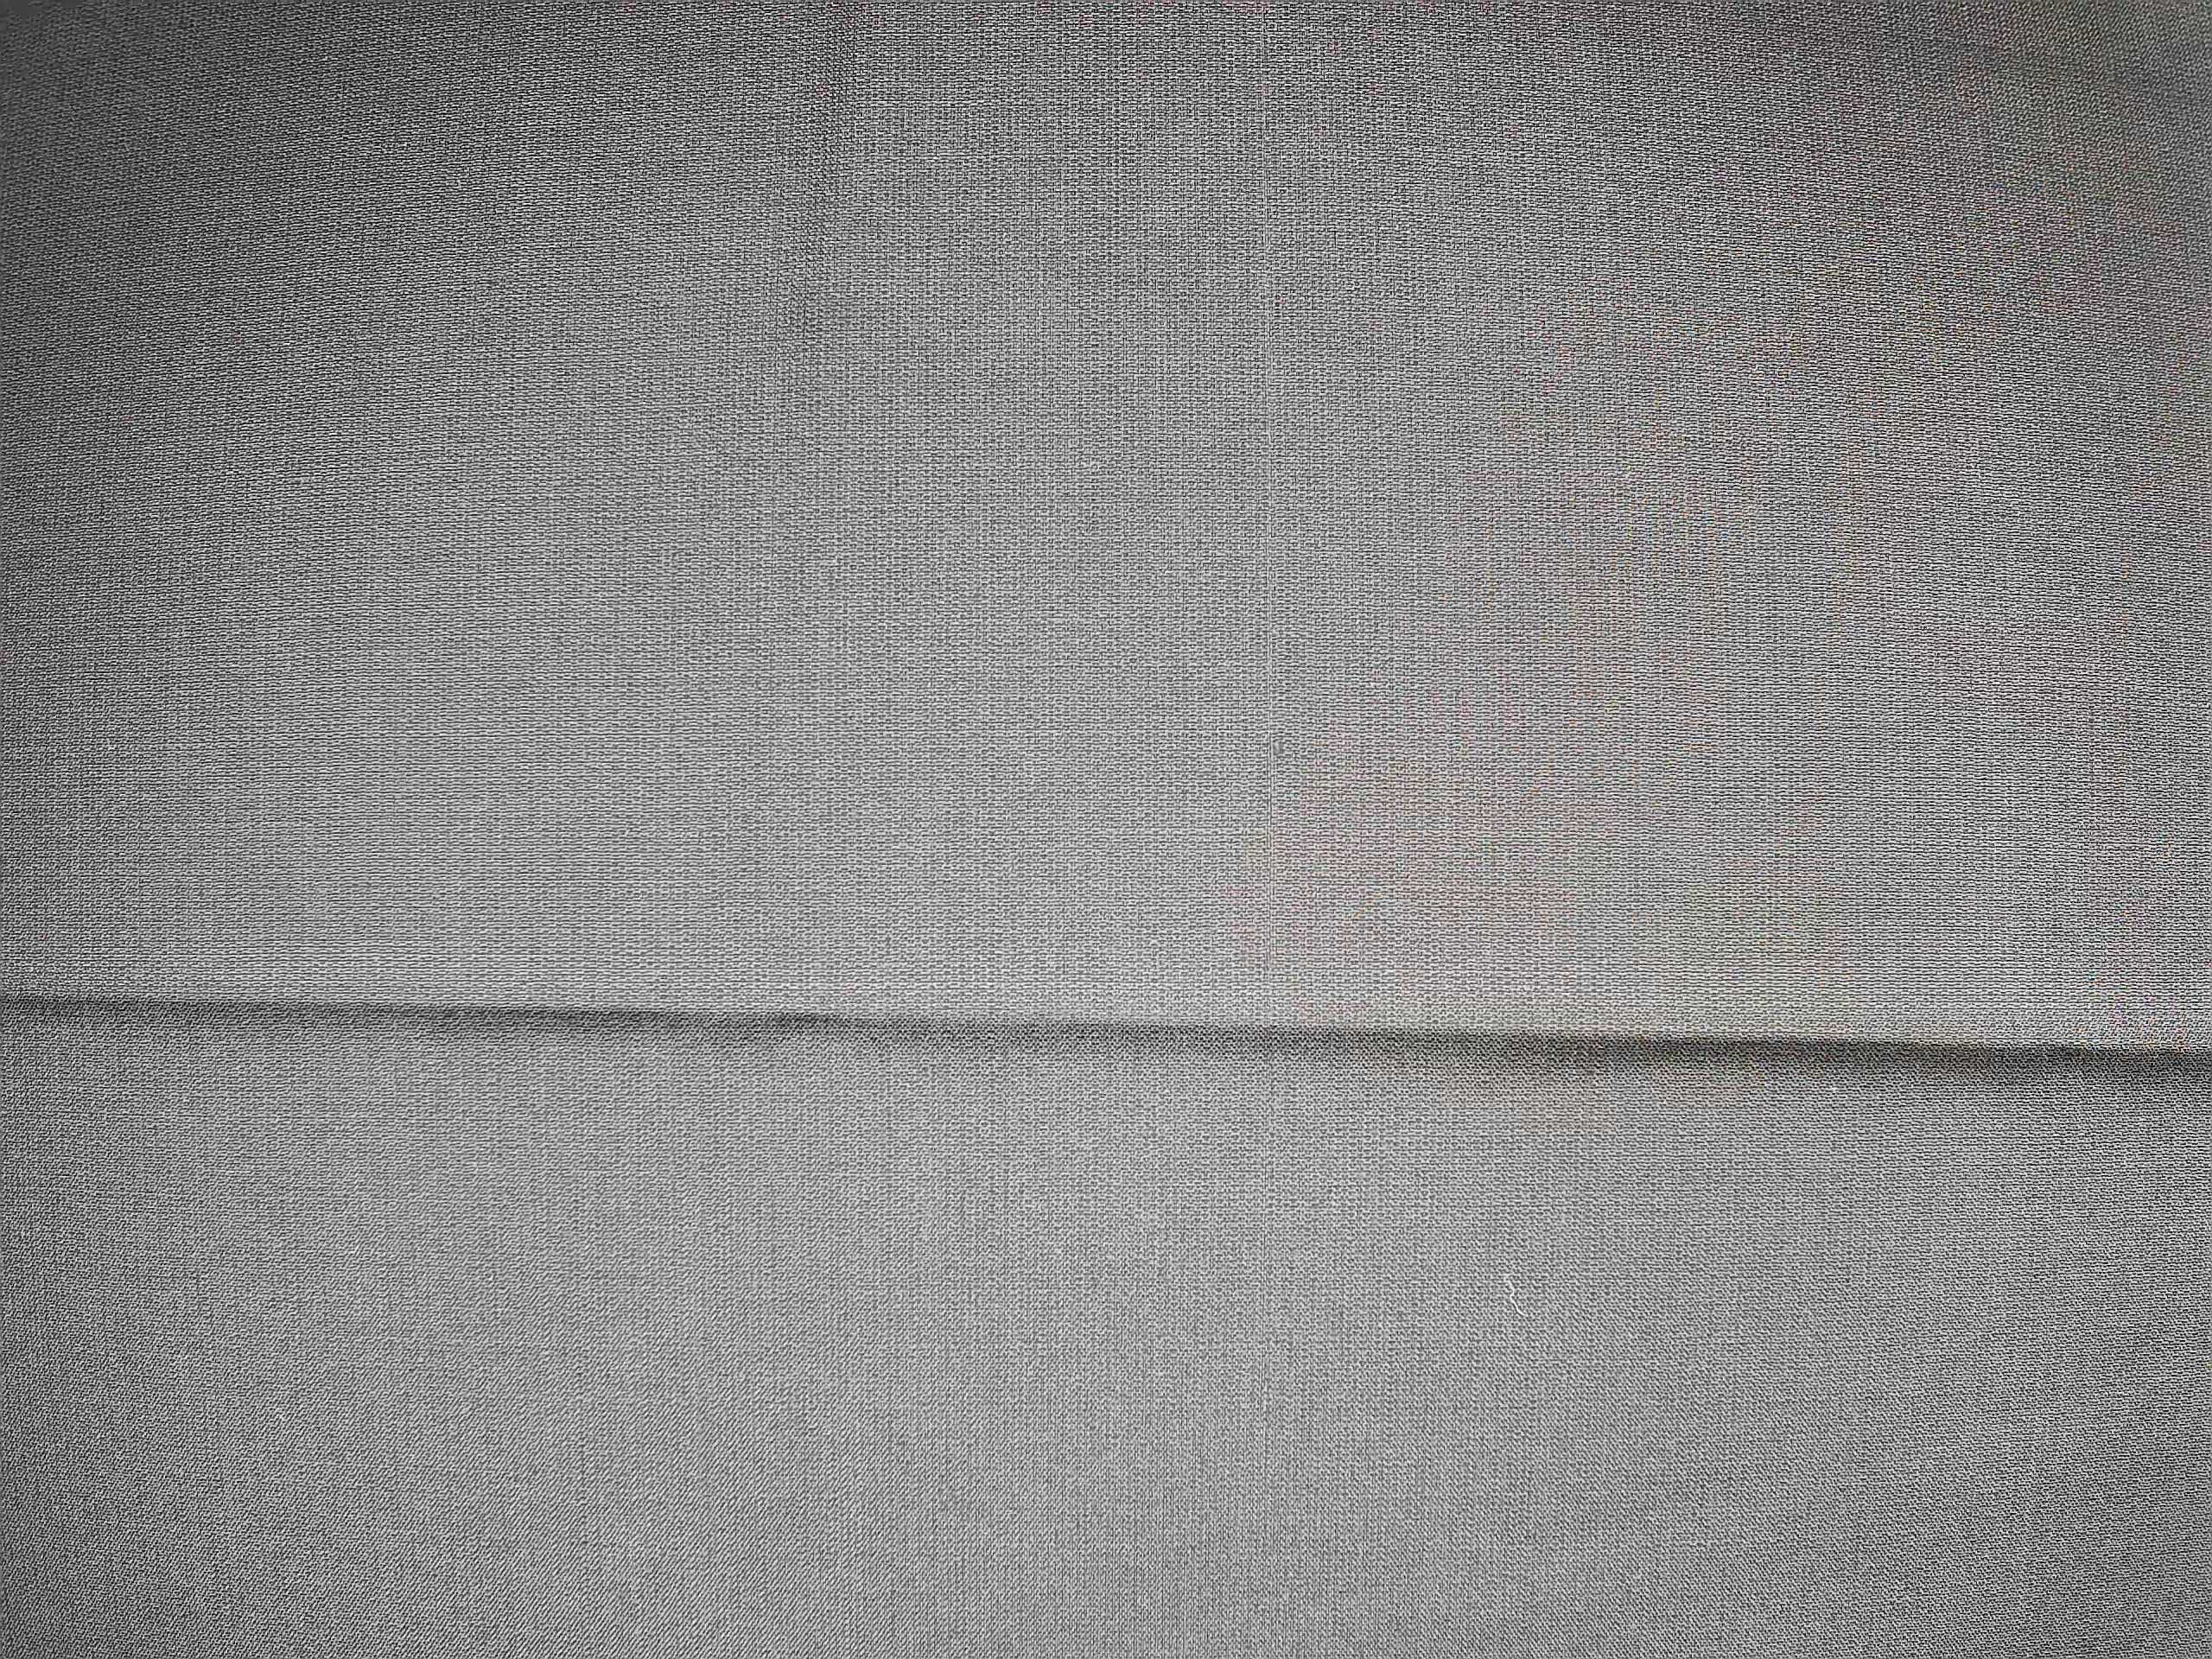hanging-warp: (1240, 105, 1299, 884)
